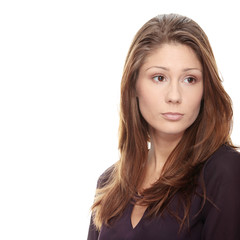teen: (120, 11, 231, 161)
